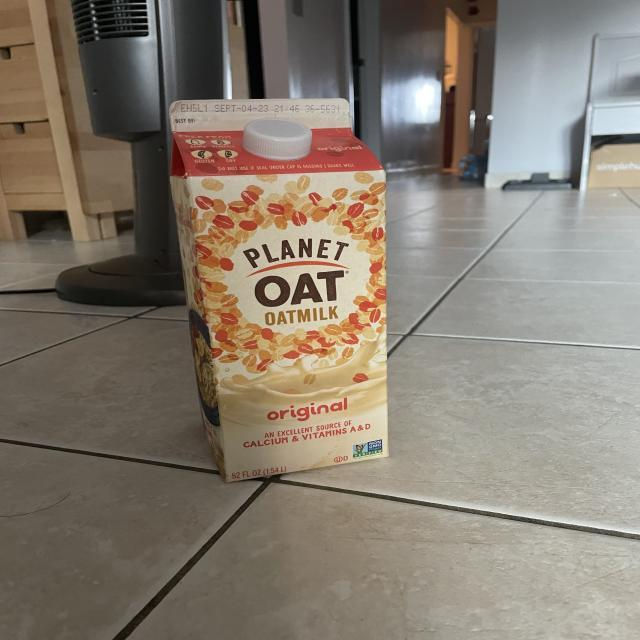Planet Oat Original: (166, 88, 400, 486)
